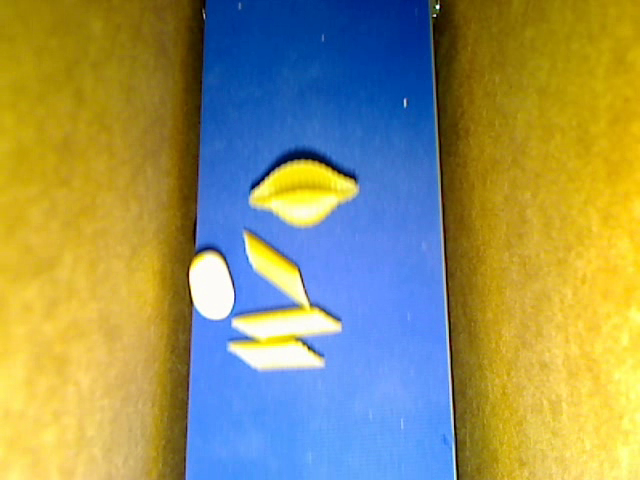penne: (241, 228, 309, 309), (230, 306, 343, 340), (226, 337, 324, 370)
shell: (248, 158, 360, 229)
